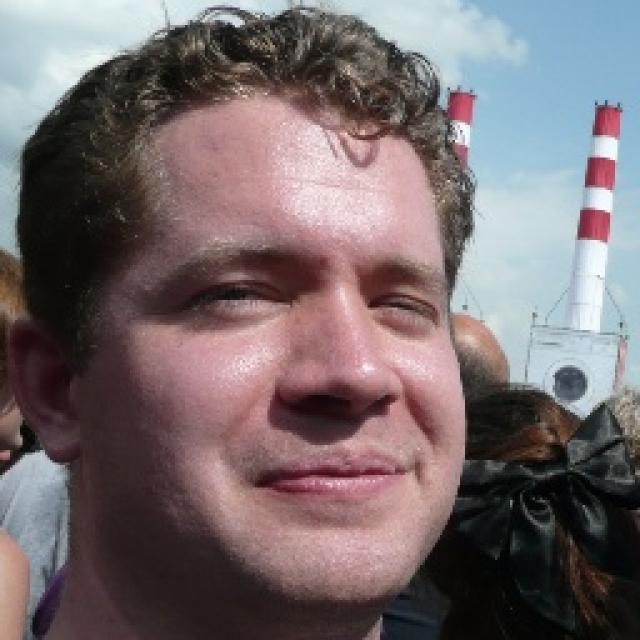earlobe: (9, 316, 86, 468)
